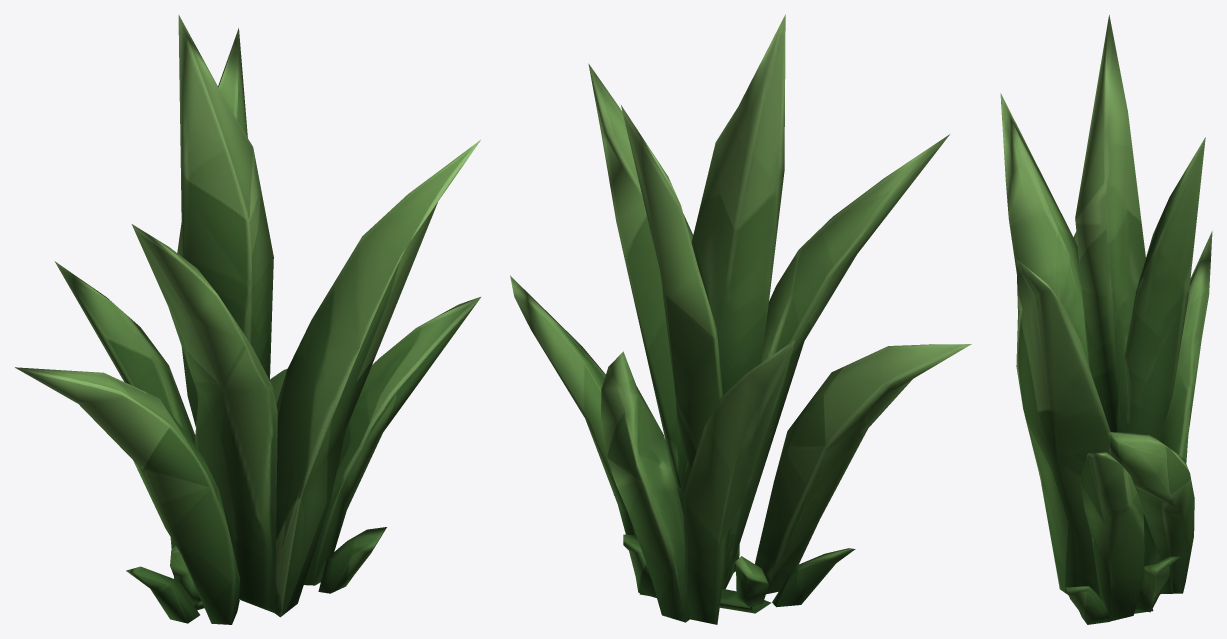
The model's file is trava2_500.glb.
The picture shows the model from 3 angles, left to right: view 1: azimuth 30°, elevation 25°; view 2: azimuth 150°, elevation 25°; view 3: azimuth 270°, elevation 25°; orthographic projection. The views are drawn at different scales.
Bounding box in the file's own units: 0.7749 × 0.9521 × 0.3369.
1 material, 1 textured.
